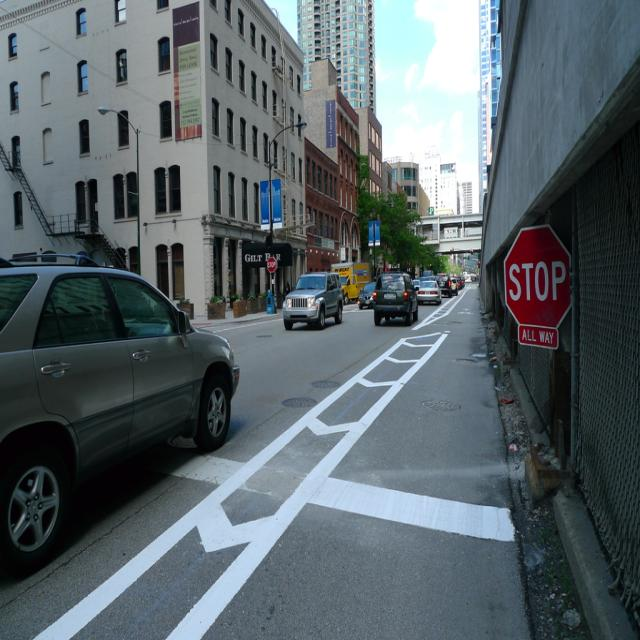Stop-sign: (502, 222, 574, 333)
